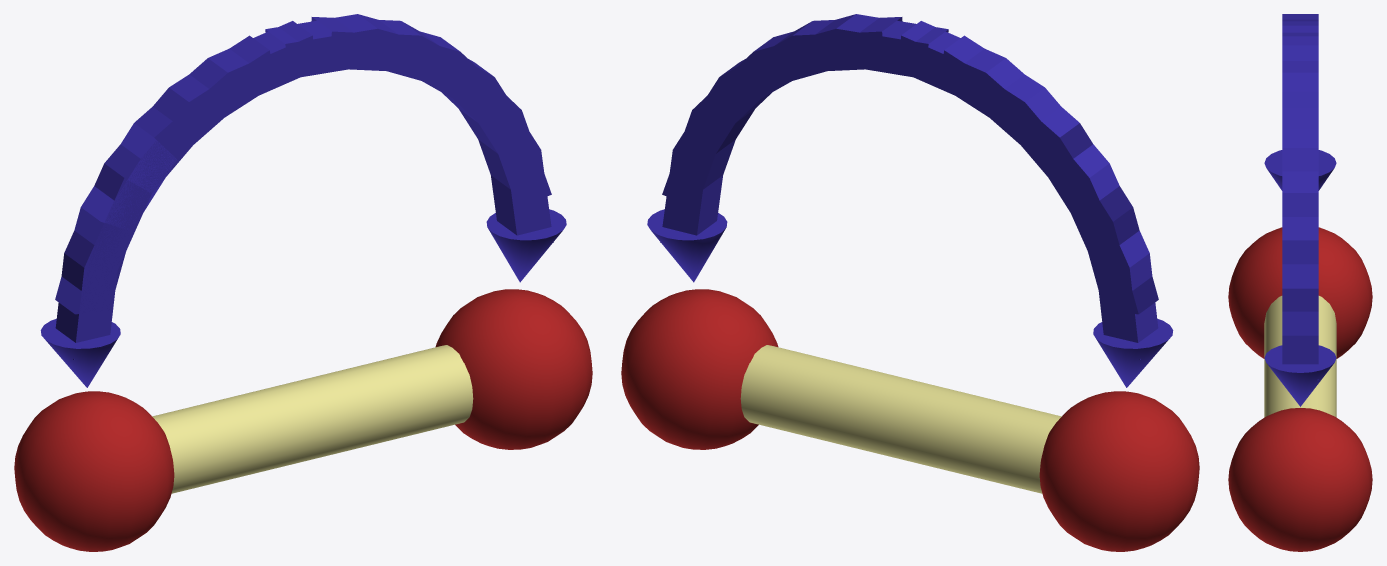
Rendered from linearMolecule.fbx.
3 renders of one model, left to right at view 1: azimuth 30°, elevation 25°; view 2: azimuth 150°, elevation 25°; view 3: azimuth 270°, elevation 25°, orthographic. The views are drawn at different scales.
Parts seen in each view (by area): view 1: arrowHead3, rod1, Atom2, Atom1; view 2: arrowHead3, rod1, Atom2, Atom1; view 3: Atom1, arrowHead3, Atom2, rod1.
Boxes of the visible parts, x1=… form: arrowHead3: x1=40, y1=14, x2=566, y2=387; rod1: x1=152, y1=345, x2=473, y2=493; Atom2: x1=14, y1=391, x2=174, y2=551; Atom1: x1=435, y1=289, x2=592, y2=449; arrowHead3: x1=647, y1=14, x2=1173, y2=387; rod1: x1=740, y1=345, x2=1061, y2=493; Atom2: x1=1039, y1=391, x2=1199, y2=551; Atom1: x1=621, y1=289, x2=778, y2=449; Atom1: x1=1228, y1=408, x2=1372, y2=551; arrowHead3: x1=1264, y1=14, x2=1336, y2=406; Atom2: x1=1228, y1=227, x2=1372, y2=358; rod1: x1=1264, y1=296, x2=1336, y2=417.
Size of the model in its own units: 8 by 6.38 by 2.
